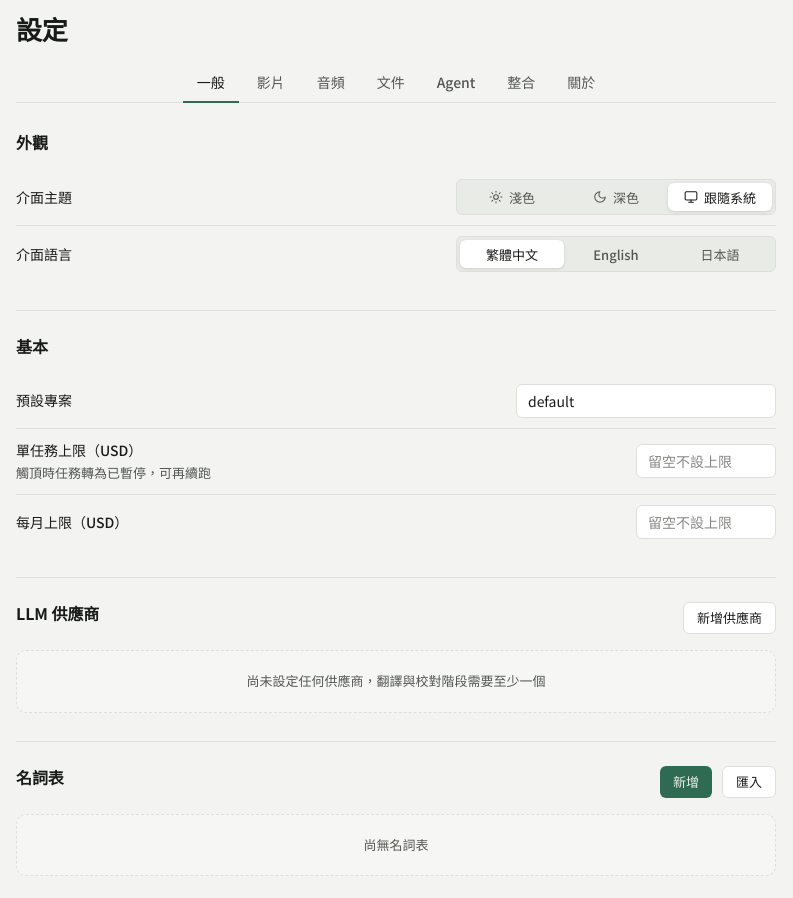
switching to the video tab reveals the ASR section
This screenshot has width=793, height=898.
Check: the field labelled "預設專案" is shown, box [516, 384, 776, 418]
Click the tab "影片": (271, 84) [243, 66, 299, 103]
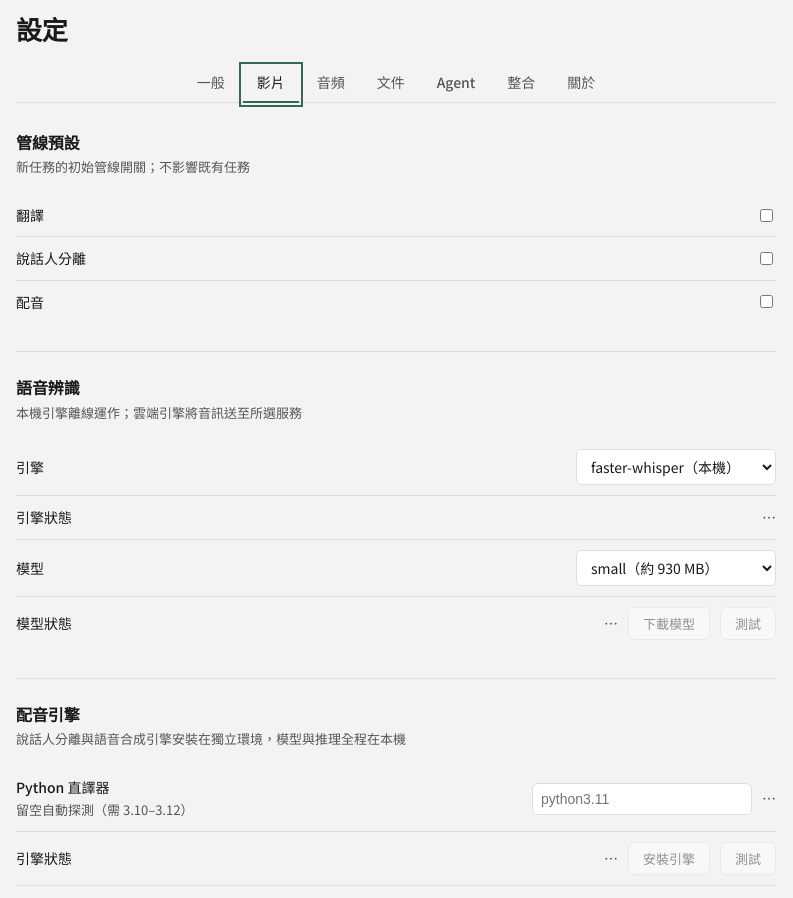
Check: the label labelled "預設專案" is gone
